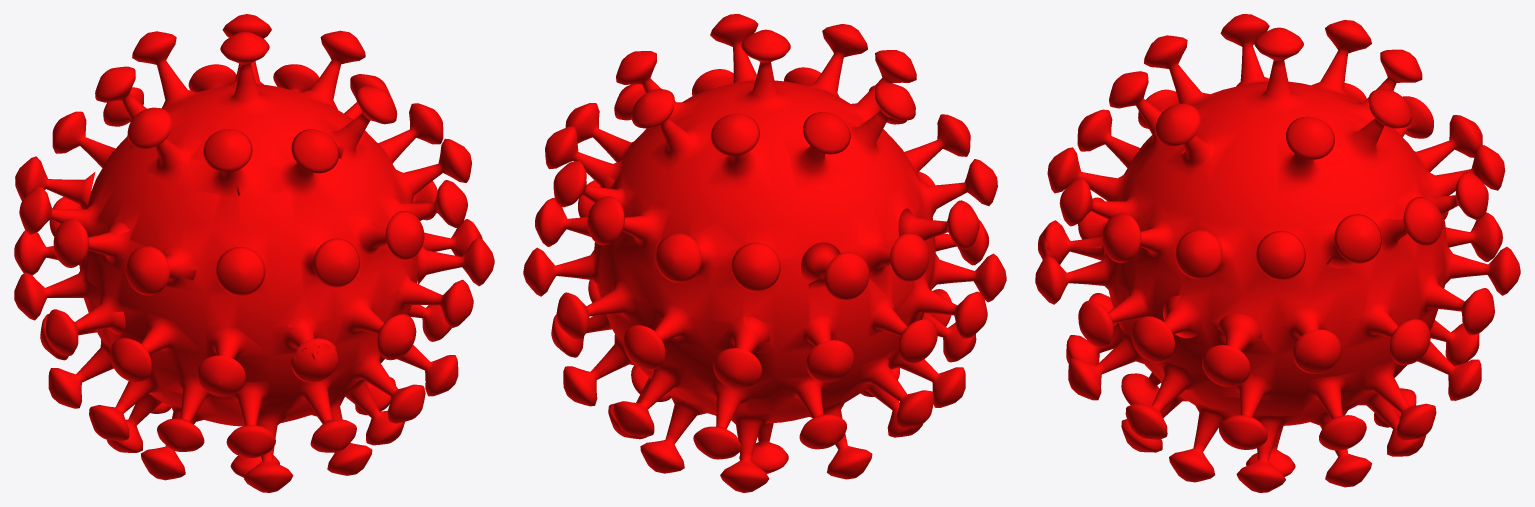
Rendered from covid.obj.
3 views of the same model, side by side, from view 1: azimuth 30°, elevation 25°; view 2: azimuth 150°, elevation 25°; view 3: azimuth 270°, elevation 25° (orthographic).
Visible parts, largest first — view 1: Virus_Cylinder.049; view 2: Virus_Cylinder.049; view 3: Virus_Cylinder.049.
Boxes of the visible parts, bbox=[...] form: Virus_Cylinder.049: bbox=[14, 14, 494, 492]; Virus_Cylinder.049: bbox=[523, 14, 1006, 492]; Virus_Cylinder.049: bbox=[1035, 14, 1520, 492].
Size of the model in its own units: 0.0471 by 0.0479 by 0.0471.
Materials: 1 (1 with a texture image).
